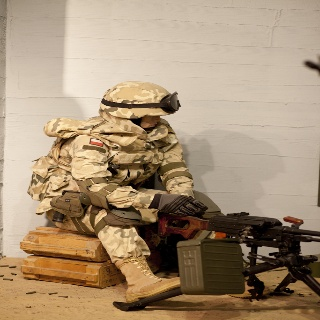rifle: (155, 209, 320, 300)
